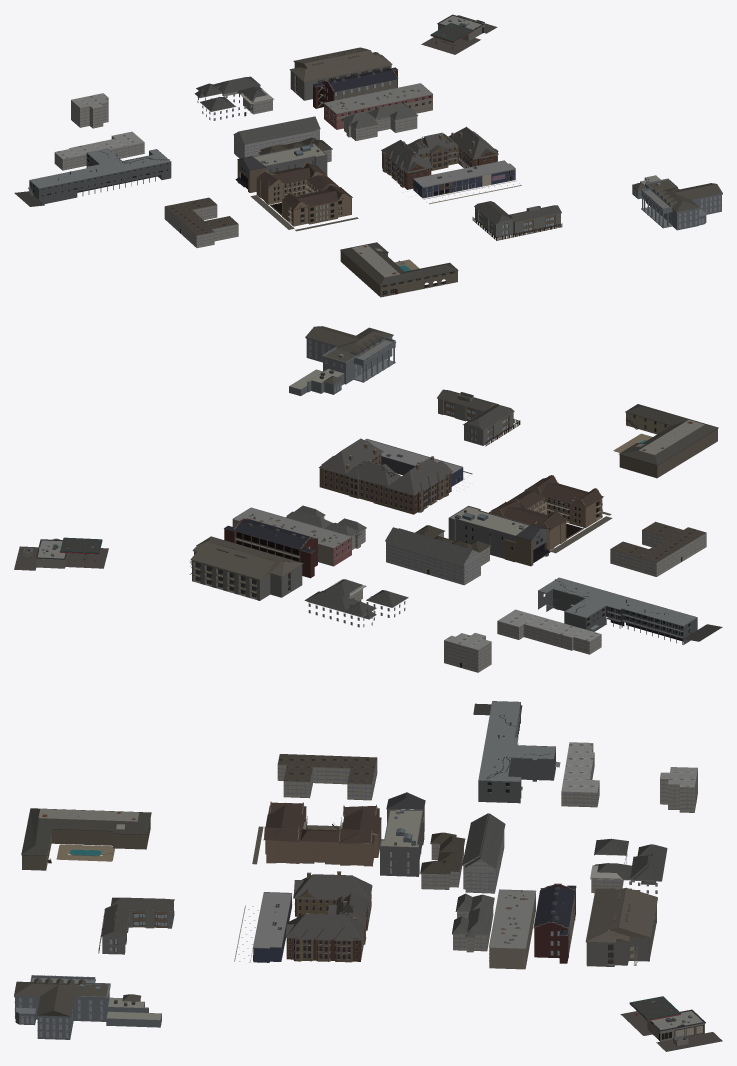
3 renders of one model, top to bottom at view 1: azimuth 30°, elevation 25°; view 2: azimuth 150°, elevation 25°; view 3: azimuth 270°, elevation 25°, orthographic. The views are drawn at different scales.
Visible parts, largest first — view 1: opaque (×8), glass (×2); view 2: opaque (×8), glass (×2); view 3: opaque (×8), glass (×2).
Part boxes in pixels (box(x1,y1,x2,y2)): opaque (×8): box(14, 14, 722, 297); glass (×2): box(33, 28, 720, 294); opaque (×8): box(14, 326, 722, 672); glass (×2): box(196, 339, 704, 669); opaque (×8): box(14, 701, 722, 1051); glass (×2): box(19, 746, 697, 1040).
Bounding box in the file's own units: 296 × 17.25 × 262.
Materials: 14 (14 with a texture image).
